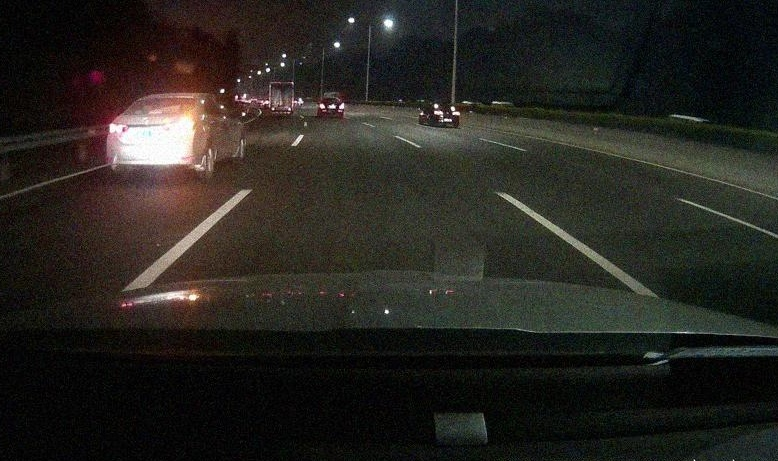L_light: (109, 122, 128, 134), (434, 111, 443, 114), (320, 104, 325, 109), (271, 108, 275, 110)
R_light: (173, 121, 195, 131), (339, 104, 343, 109), (452, 112, 458, 115), (288, 108, 291, 111)
T_light: (160, 98, 174, 101), (328, 98, 333, 100), (442, 106, 447, 108), (279, 83, 283, 84)
night-no: (107, 93, 200, 185), (269, 82, 294, 117), (433, 105, 459, 127), (319, 97, 344, 118)
